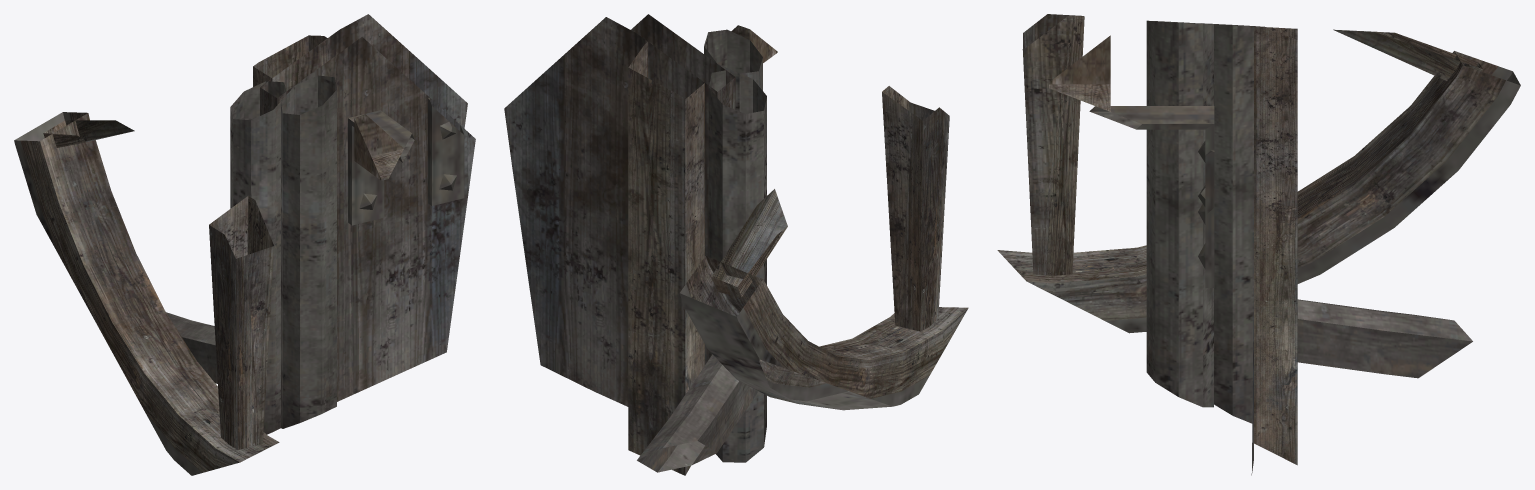
Rendered from Wagon3_7.fbx.
3 renders of one model, left to right at view 1: azimuth 30°, elevation 25°; view 2: azimuth 150°, elevation 25°; view 3: azimuth 270°, elevation 25°, orthographic. The views are drawn at different scales.
Parts seen in each view (by area): view 1: SM_Wagon03_DM.007; view 2: SM_Wagon03_DM.007; view 3: SM_Wagon03_DM.007.
Part boxes in pixels (x1=…): SM_Wagon03_DM.007: x1=14, y1=14, x2=475, y2=475; SM_Wagon03_DM.007: x1=504, y1=14, x2=968, y2=475; SM_Wagon03_DM.007: x1=997, y1=14, x2=1520, y2=475.
Bounding box in the file's own units: 5207 × 5997 × 6086.
Materials: 2 (2 with a texture image).
